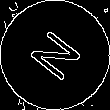N_SE: (23, 23, 87, 87)
